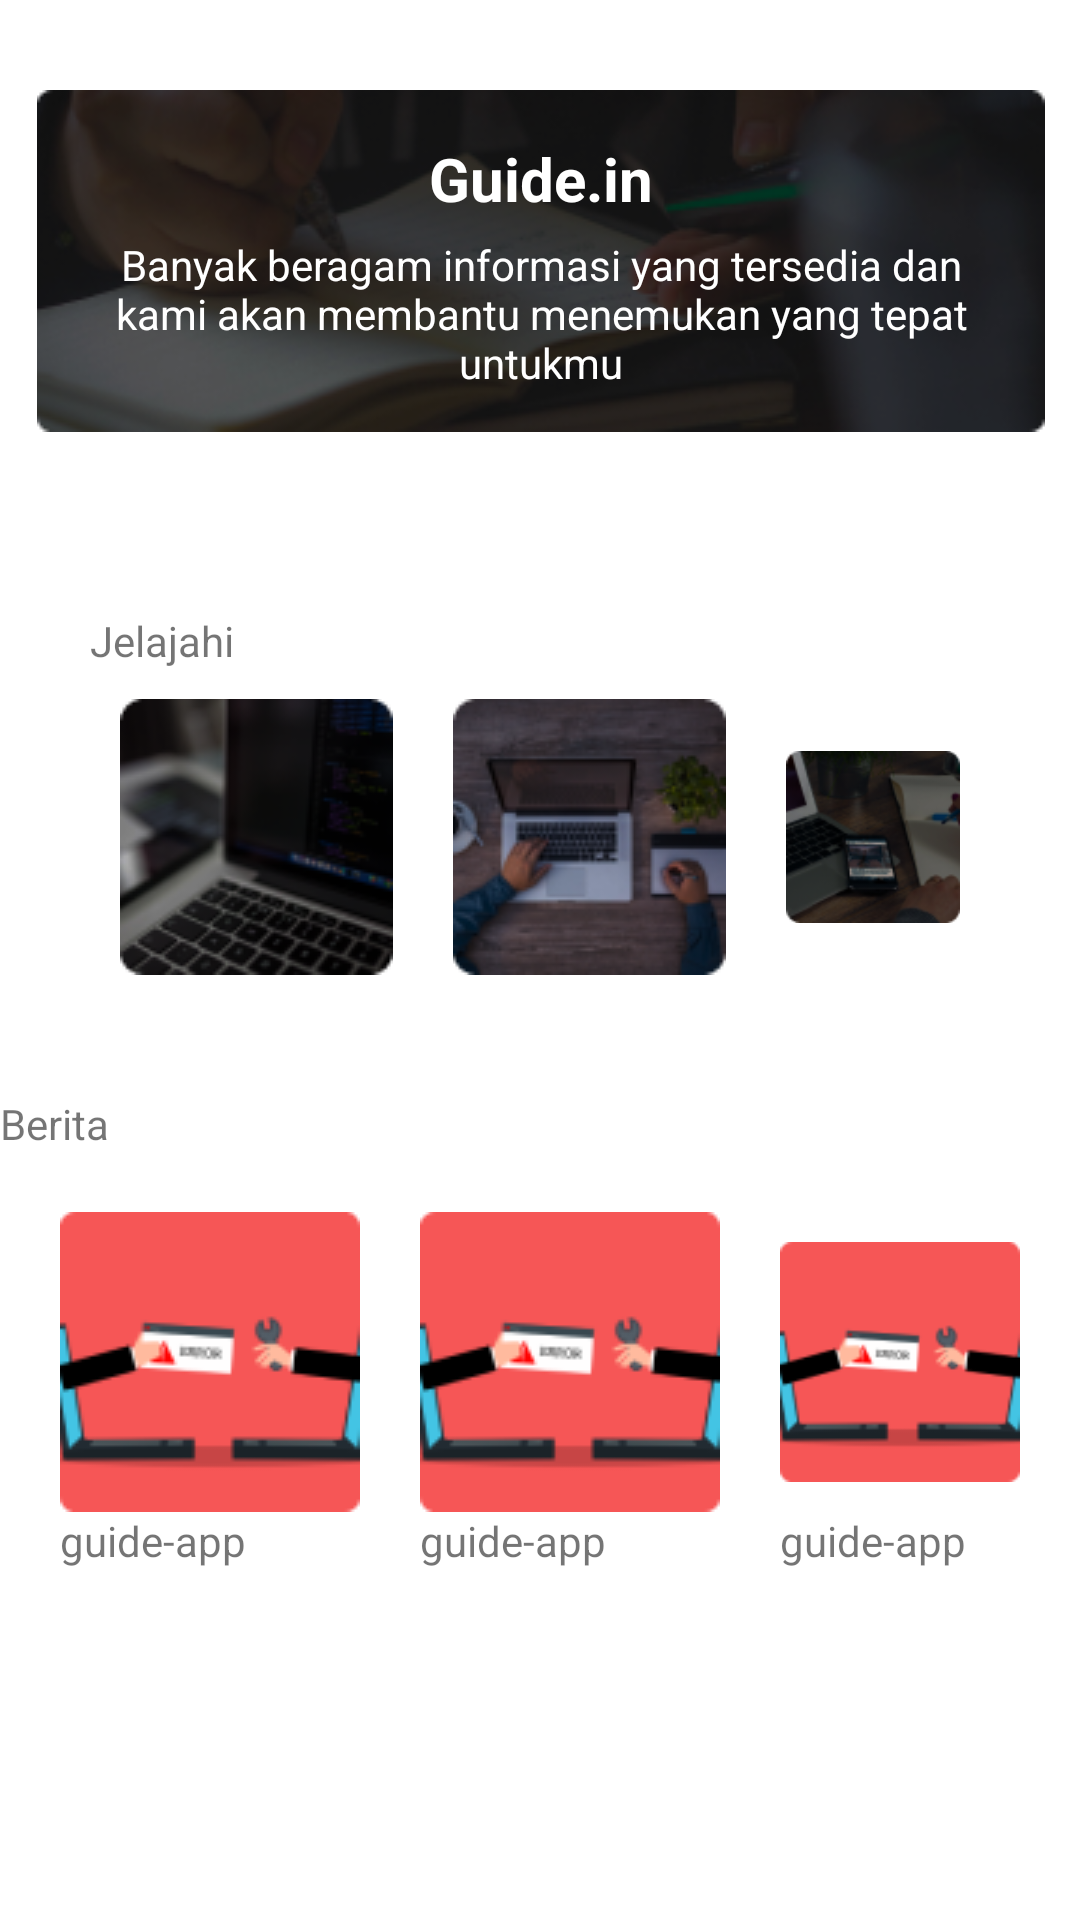

Where to tap for icons on this 1080w x 1920h app screen, as [x,y]:
desain: [589,837]
pemrograman: [256,837]
